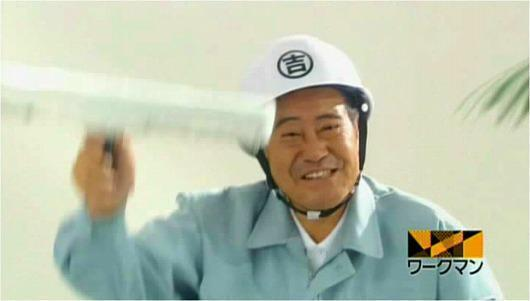helmet: (237, 34, 374, 111)
